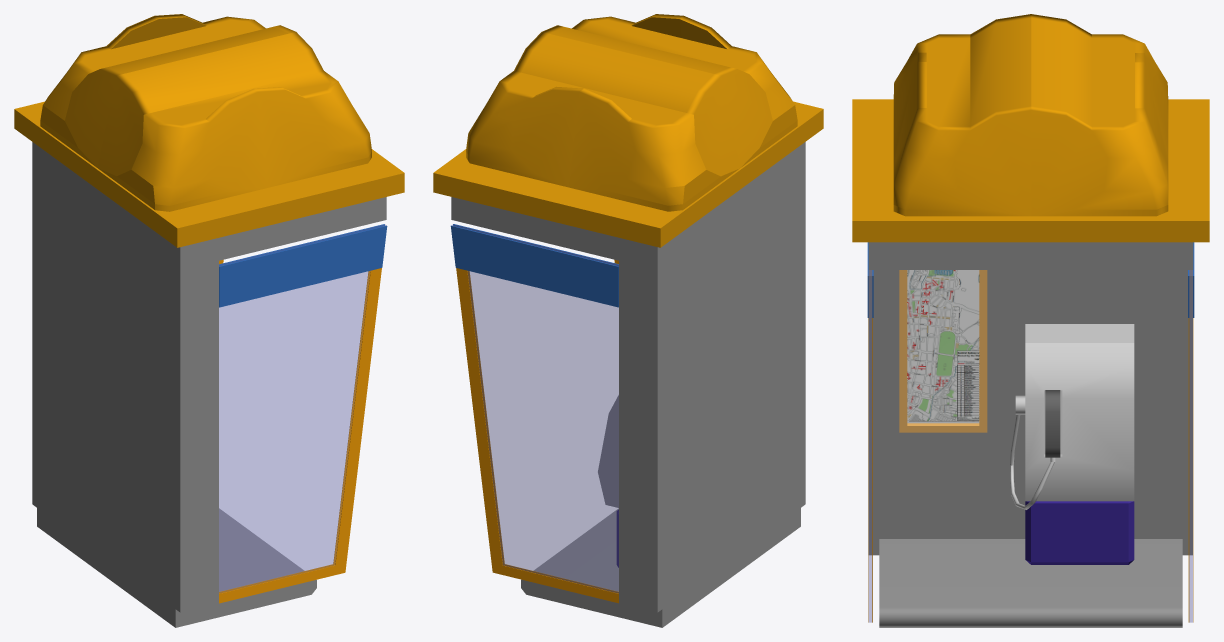
File: Shop.fbx
3 renders of one model, left to right at view 1: azimuth 30°, elevation 25°; view 2: azimuth 150°, elevation 25°; view 3: azimuth 270°, elevation 25°, orthographic. The views are drawn at different scales.
Visible parts, largest first — view 1: shop; view 2: shop; view 3: shop.
Boxes of the visible parts, <box> form: shop: <box>14,14,404,627</box>; shop: <box>433,14,823,627</box>; shop: <box>852,14,1209,627</box>.
Bounding box in the file's own units: 268 × 562 × 333.
Materials: 10 (1 with a texture image).
